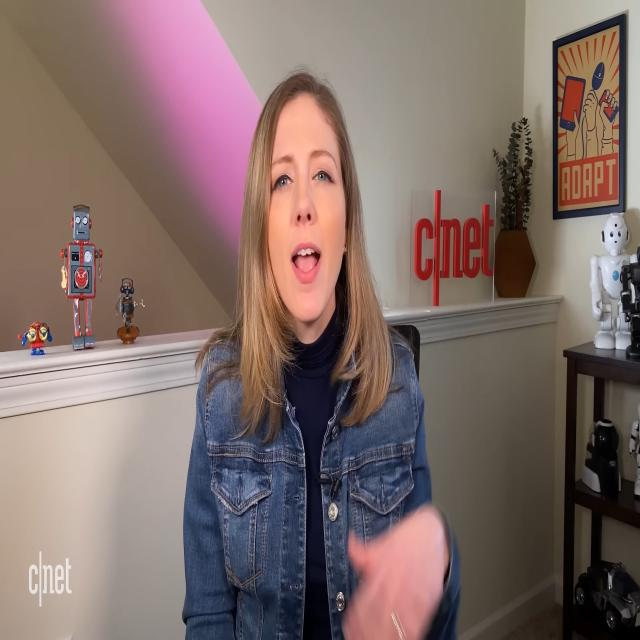dress: (175, 317, 467, 640)
